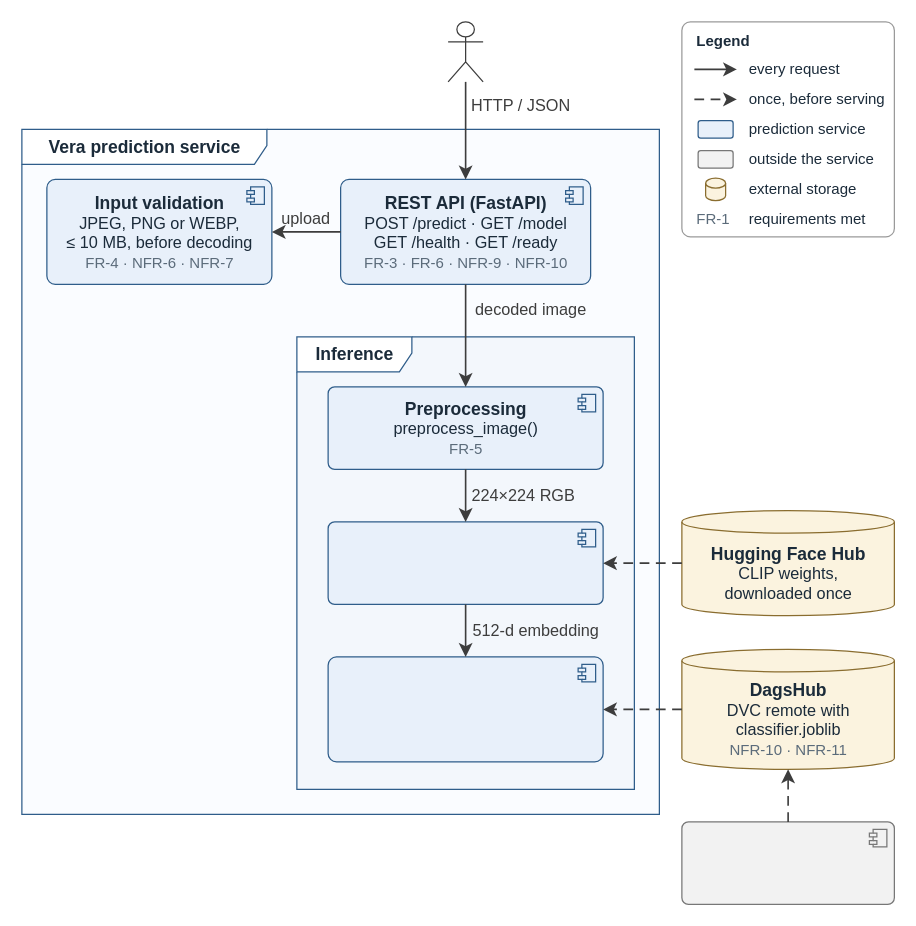
Image size: 916x926. Some labels were removed from this diagram. The centre of each missing label's shape, as x and y in pixels:
"API client curl, a script or Swagger UI" goes at point (465, 51).
"Classifier head scaler + logistic regression threshold 0.57 FR-1 · FR-2" goes at point (465, 709).
"CLIP ViT-B/32 encoder frozen, via open_clip FR-1 · NFR-8" goes at point (465, 562).
"Training pipeline dvc repro, dvc push NFR-1 · NFR-4 · NFR-12" goes at point (787, 862).
